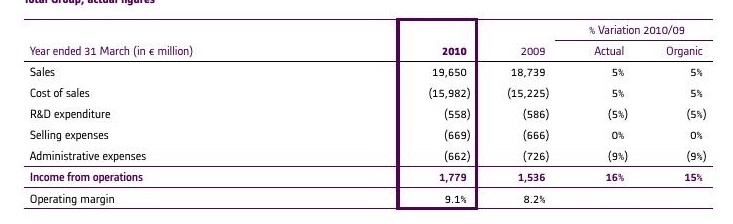table: (0, 0, 733, 224)
